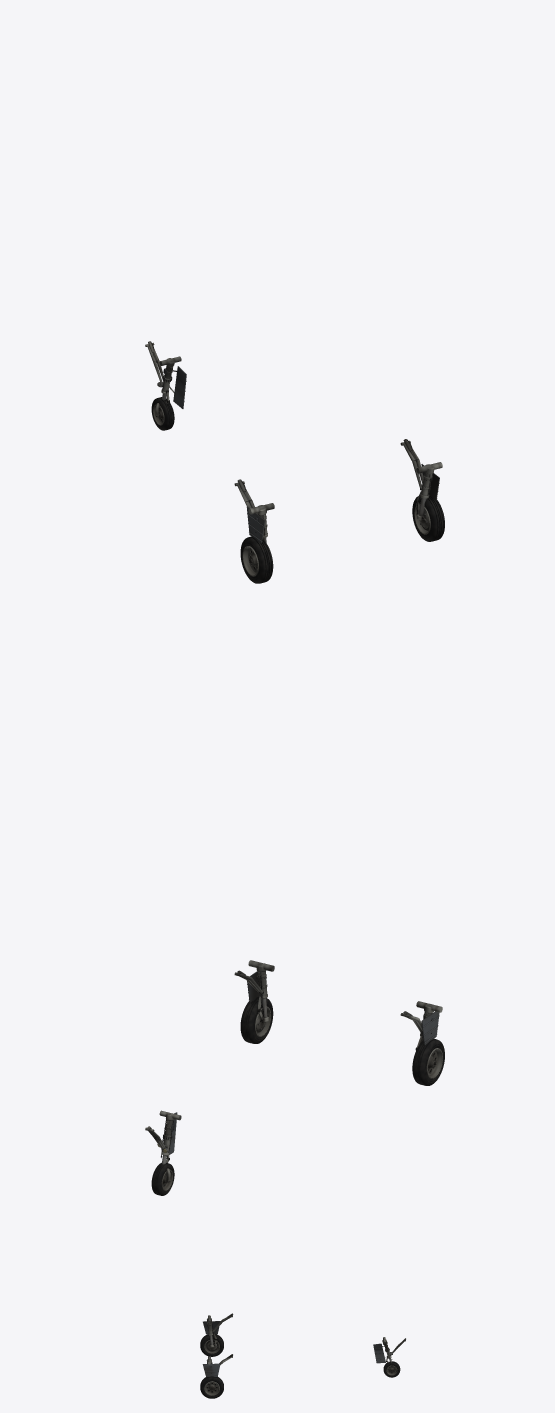
Rendered from f22_gear.glb.
3 views of the same model, one above another, from view 1: azimuth 30°, elevation 25°; view 2: azimuth 150°, elevation 25°; view 3: azimuth 270°, elevation 25° (orthographic). The views are drawn at different scales.
Parts seen in each view (by area): view 1: gear_m_l, gear_m_r, gear_n; view 2: gear_m_l, gear_m_r, gear_n; view 3: gear_m_r, gear_m_l, gear_n.
Part boxes in pixels (x1,y1,x2,y2): gear_m_l: (240, 503, 274, 583); gear_m_r: (412, 462, 444, 541); gear_n: (151, 356, 186, 430); gear_m_l: (412, 1001, 444, 1085); gear_m_r: (240, 960, 274, 1043); gear_n: (151, 1110, 181, 1195); gear_m_r: (200, 1356, 223, 1398); gear_m_l: (200, 1315, 223, 1356); gear_n: (373, 1337, 400, 1377).
Size of the model in its own units: 3.96 by 6.05 by 18.91.
Materials: 1 (1 with a texture image).
